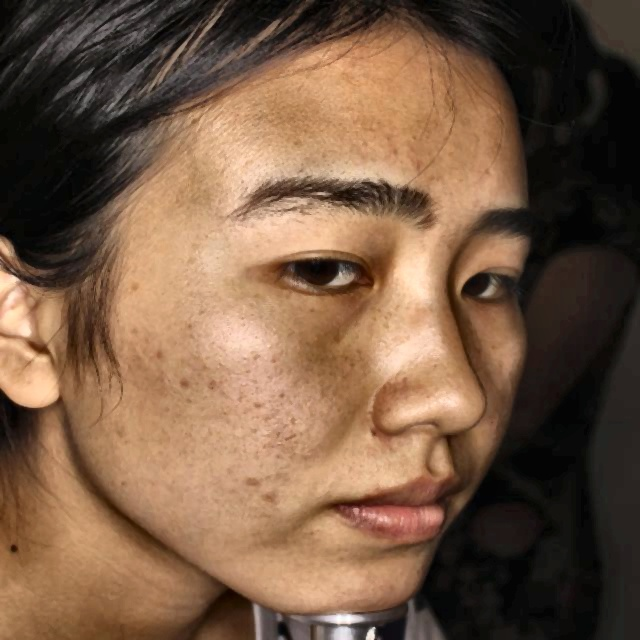comedone: (255, 464, 279, 515)
